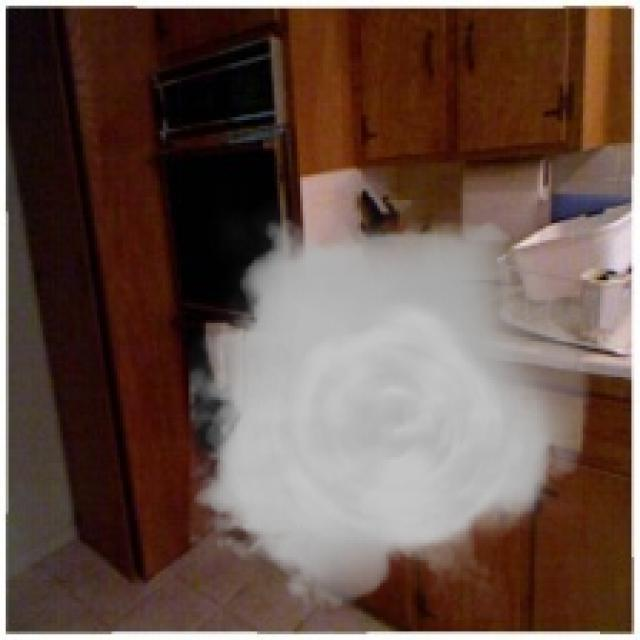Smoke: (188, 200, 592, 620)
